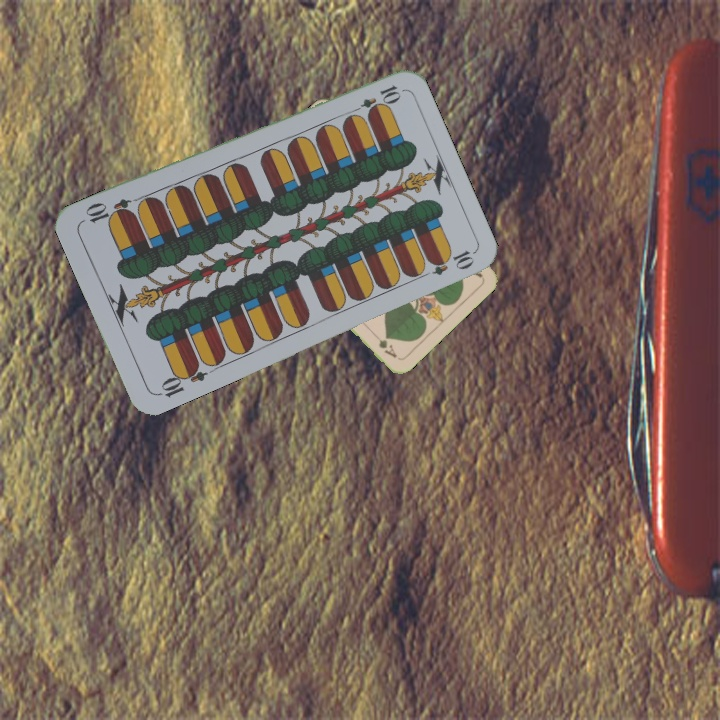E10: (153, 359, 209, 400), (346, 81, 403, 118)
